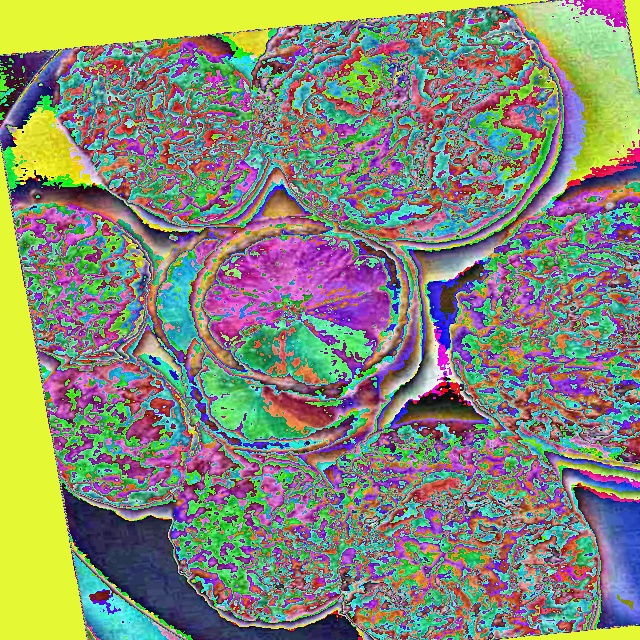background: (12, 6, 639, 639)
